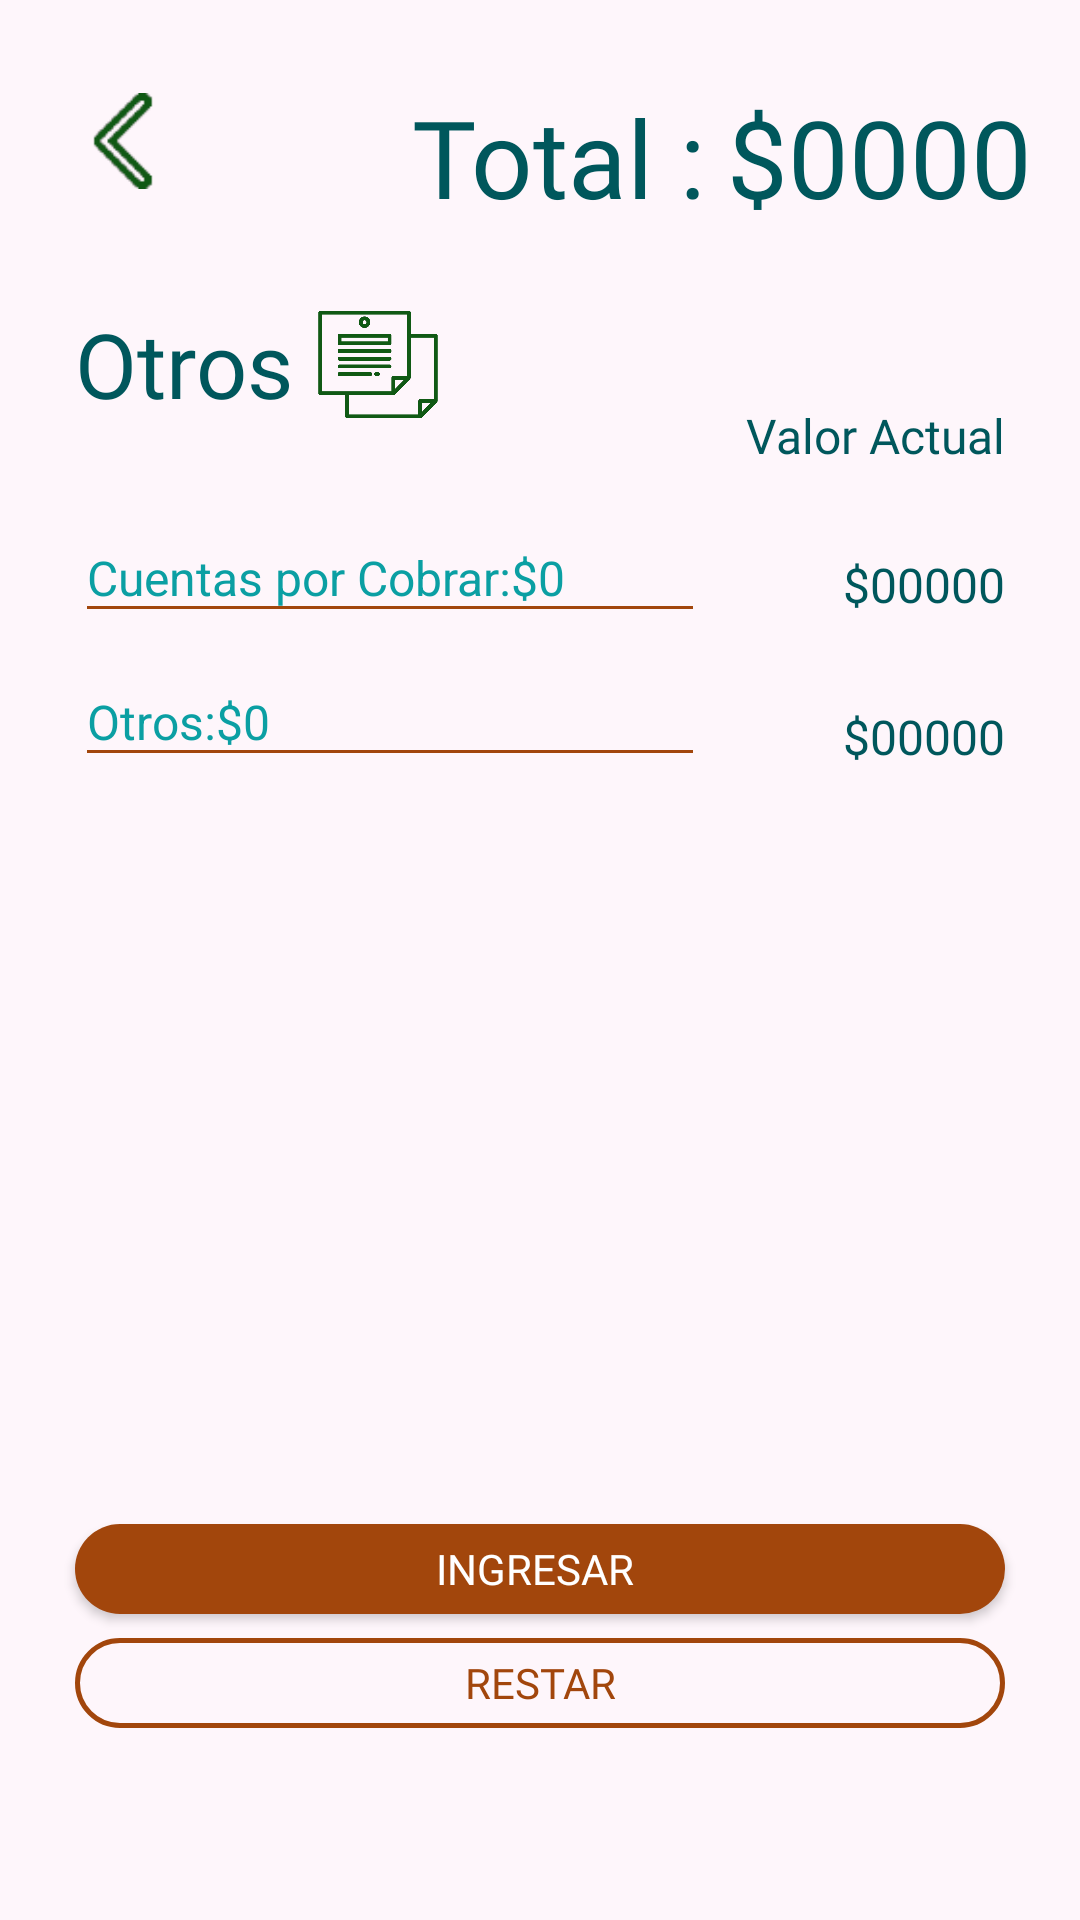

Where icons sit on this 1080px x 1920px app screen, as (x1, y1, x2, y2):
flecha: (93, 93, 153, 189)
